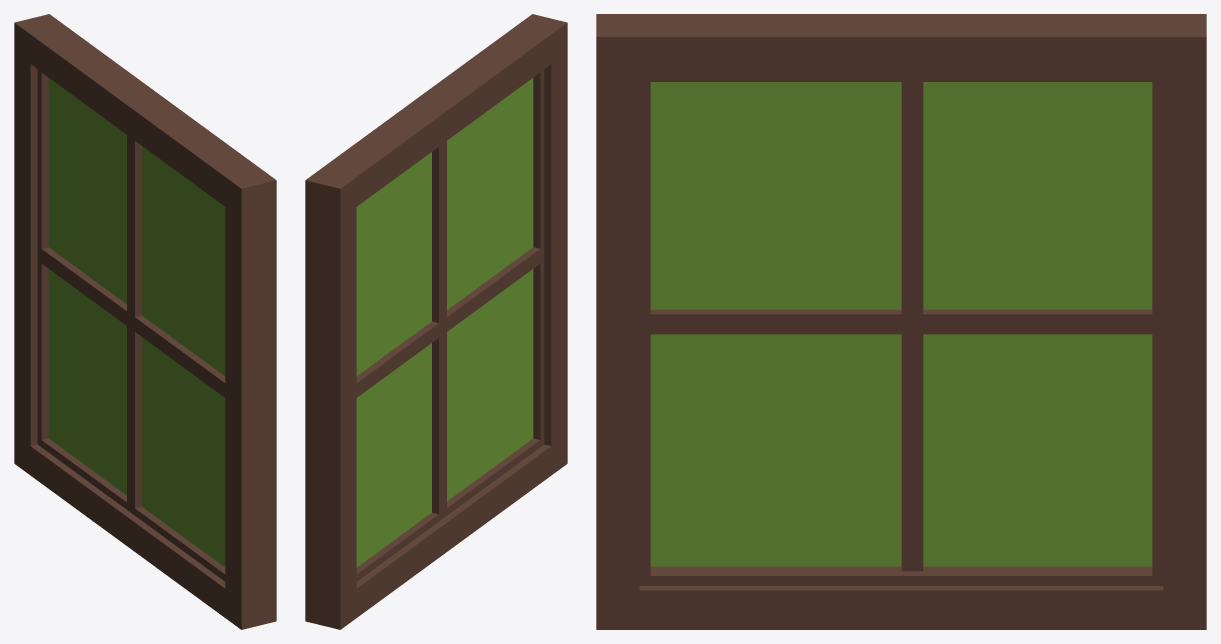
The picture shows the model from 3 angles, left to right: view 1: azimuth 30°, elevation 25°; view 2: azimuth 150°, elevation 25°; view 3: azimuth 270°, elevation 25°; orthographic projection. The views are drawn at different scales.
Visible parts, largest first — view 1: node_MeshObject-2070909952-PolyPaper9; view 2: node_MeshObject-2070909952-PolyPaper9; view 3: node_MeshObject-2070909952-PolyPaper9.
Boxes of the visible parts, <box> form: node_MeshObject-2070909952-PolyPaper9: <box>14,14,276,629</box>; node_MeshObject-2070909952-PolyPaper9: <box>305,14,567,629</box>; node_MeshObject-2070909952-PolyPaper9: <box>596,14,1206,629</box>.
Size of the model in its own units: 0.05 by 0.6 by 0.56.
